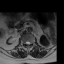CCS_normal: (27, 40, 28, 47)
LFS_normal: (30, 40, 32, 45)
LLS_normal: (28, 40, 30, 46)
RFS_stenosis: (23, 40, 25, 45)
RLS_normal: (25, 40, 27, 45)
